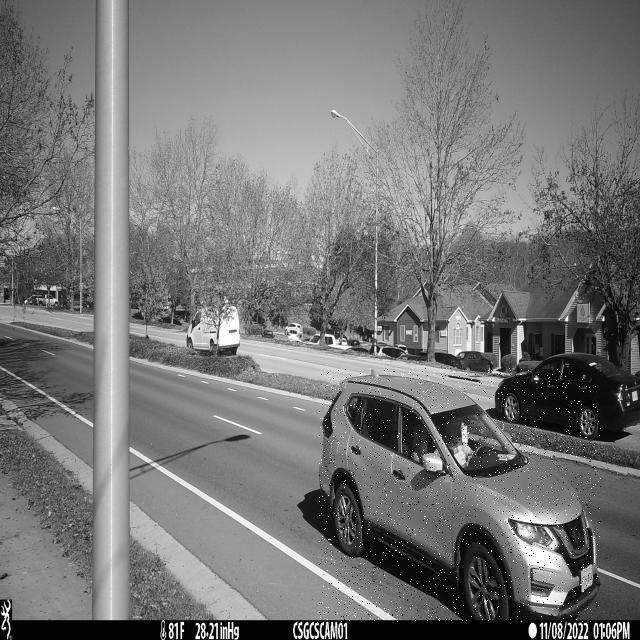SUV: (319, 368, 601, 622)
